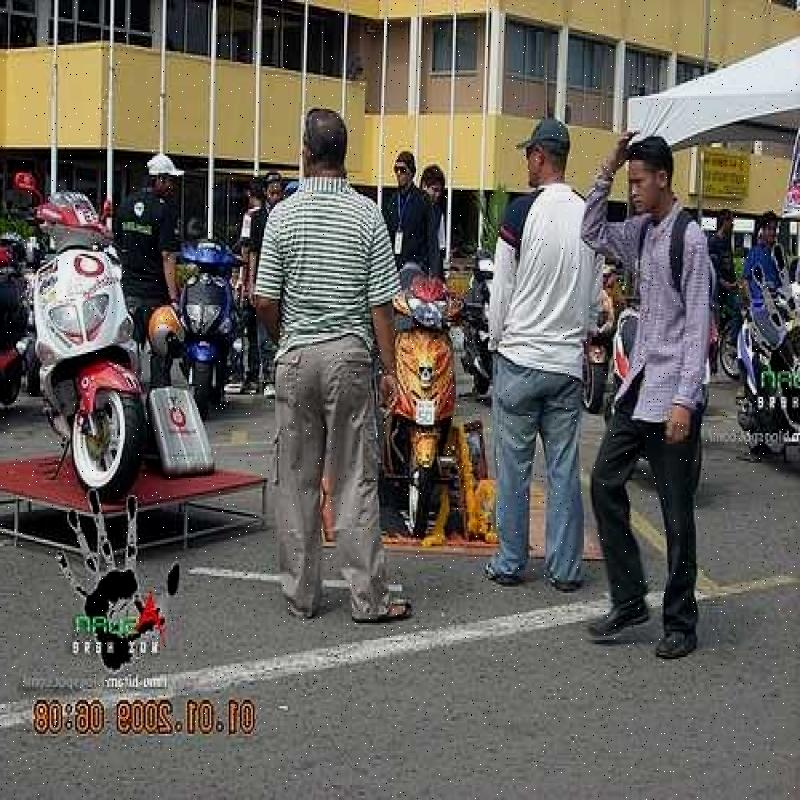bike: (364, 253, 484, 541), (30, 176, 133, 499), (165, 235, 258, 397)
